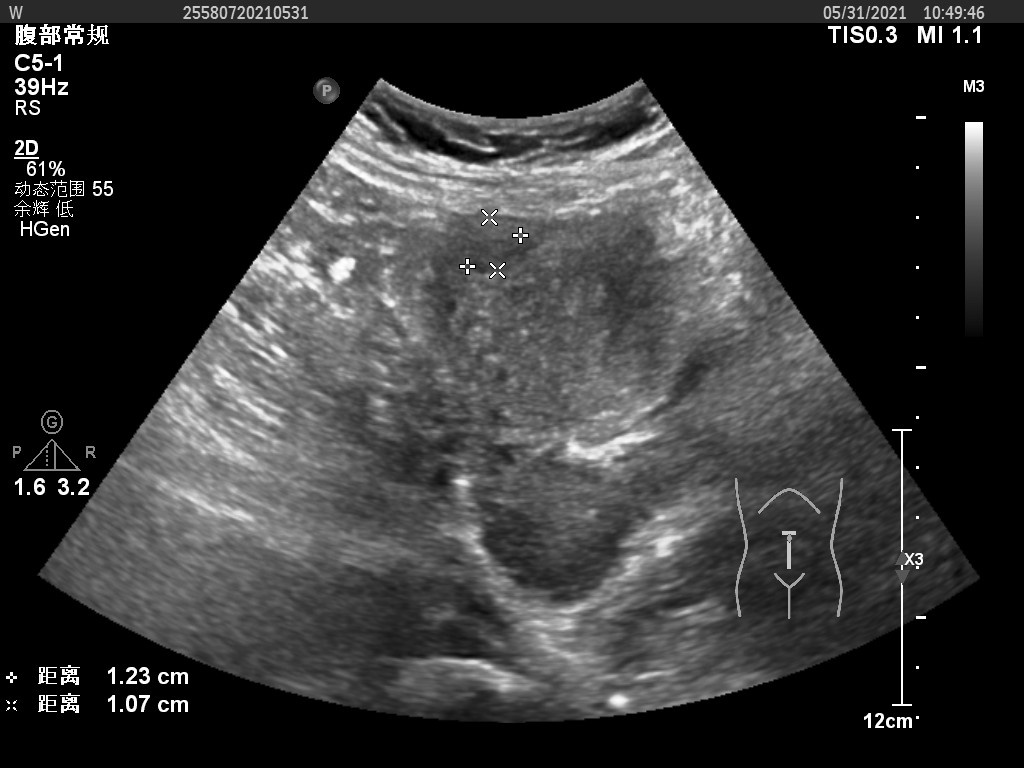肌瘤: (464, 216, 523, 271)
